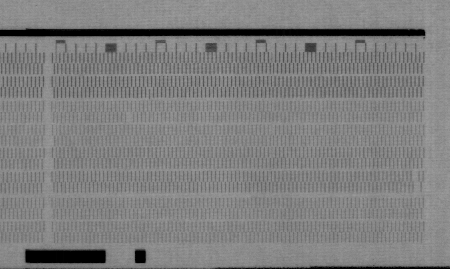Broken hole: (410, 169, 423, 193), (125, 110, 135, 124)
Oblique printing: (144, 87, 156, 102)
